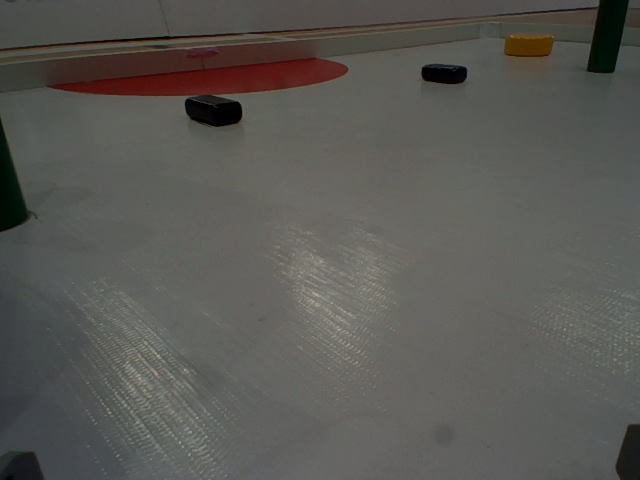black: (183, 95, 245, 123), (421, 60, 468, 86), (503, 35, 558, 57)
zhuzi: (582, 1, 626, 77)
